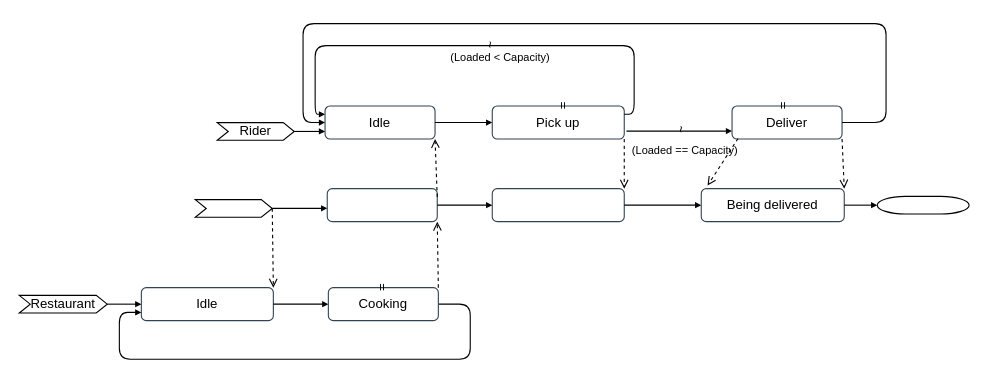
Image size: 989x385. Some labels were removed from this diagram. Here are the shapes that lost their labels. From the top down, the centre of each, then its label:
(233,208): Order
(381,205): Being prepared
(557,205): Waiting for picking up
(922,204): Finish
